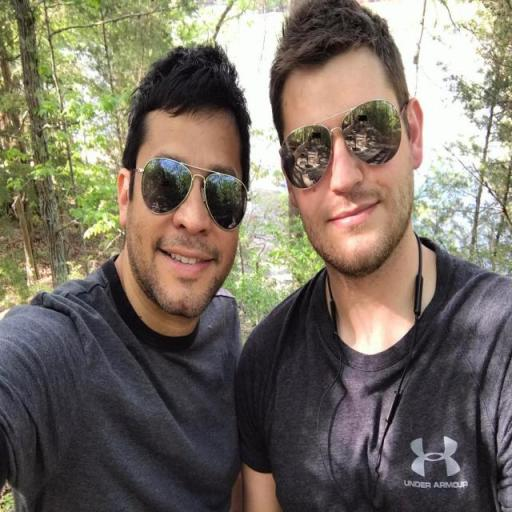Under Armour: (401, 432, 470, 491)
